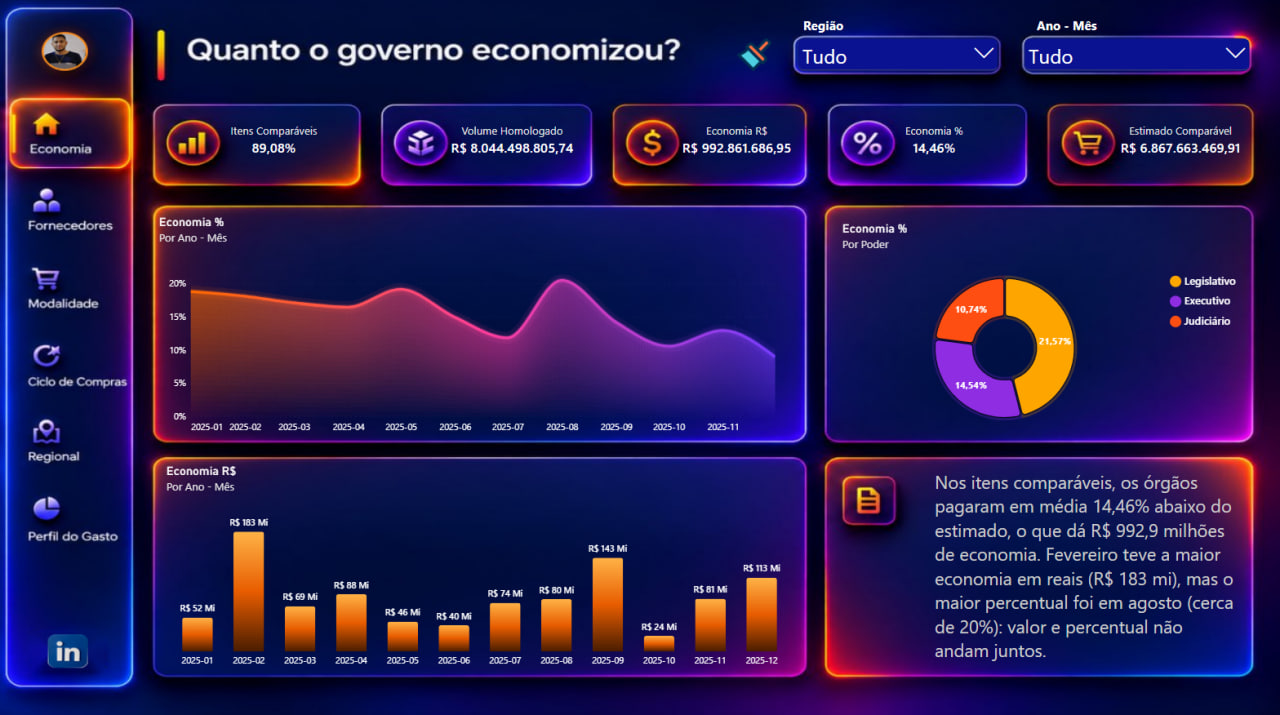

Layout of this report page (visuals, bound fields, positions):
{"tool":"powerbi","page":{"name":"Economia","canvas":[1920,1080],"ordinal":1},"visuals":[{"type":"cardVisual","fields":{"Data":["Medidas.P1 Estimado Comparável"]},"box":[1660.3,160.3,215.9,112.7],"z":0},{"type":"textbox","box":[1400.8,707.4,454.7,294.4],"z":1000},{"type":"slicer","fields":{"Values":["Calendario.Ano-Mês"]},"box":[1530.2,58.7,346,54],"z":2000},{"type":"slicer","title":"região","fields":{"Values":["dim_localidade.regiao"]},"box":[1192.1,58.7,307.9,63.5],"z":3000},{"type":"cardVisual","fields":{"Data":["Medidas.P1 Economia %"]},"box":[1247.6,160.3,306.3,112.7],"z":4000},{"type":"cardVisual","fields":{"Data":["Medidas.P1 Economia R$"]},"box":[992.1,160.3,227,112.7],"z":5000},{"type":"cardVisual","fields":{"Data":["Medidas.P1 Volume Homologado"]},"box":[652.4,160.3,233.3,112.7],"z":6000},{"type":"cardVisual","fields":{"Data":["Medidas.P1 % Itens Comparáveis"]},"box":[282.5,160.3,260.3,112.7],"z":7000},{"type":"textbox","box":[1204.8,31.7,117.5,36.5],"z":8000},{"type":"textbox","box":[1554,31.7,117.5,36.5],"z":9000},{"type":"deneb7E15AEF80B9E4D4F8E12924291ECE89A","title":"Economia %","fields":{"dataset":["Calendario.Ano-Mês","Medidas.P1 Economia %"]},"box":[225.4,313.4,979.1,358.2],"z":10000},{"type":"deneb7E15AEF80B9E4D4F8E12924291ECE89A","title":"Economia R$","fields":{"dataset":["Calendario.Ano-Mês","Medidas.P1 Economia R$"]},"box":[236.5,685.7,968.3,334.9],"z":11000},{"type":"deneb7E15AEF80B9E4D4F8E12924291ECE89A","title":"Economia %","fields":{"dataset":["dim_orgao.poder","Medidas.P1 Economia %"]},"box":[1247.6,323.8,628.6,334.9],"z":12000},{"type":"image","title":"Limpar Filtro","box":[1081,54,100,68.3],"z":13000},{"type":"shape","title":"1_perfil","box":[11.1,730.6,190.3,106.9],"z":17000},{"type":"shape","title":"1_regional","box":[11.1,631.9,190.3,88.9],"z":17375},{"type":"shape","title":"1_ciclo","box":[11.1,506.9,190.3,106.9],"z":17437},{"type":"shape","title":"1_modalidade","box":[11.1,395.8,190.3,95.8],"z":17500},{"type":"shape","title":"1_fornecedores","box":[11.1,272.2,190.3,106.9],"z":18000},{"type":"shape","title":"linkedin","box":[65.3,941.7,88.9,79.2],"z":19000},{"type":"shape","box":[31.9,31.9,133.3,106.9],"z":19001}]}

Visuals, with their boxes in screenshot pixels (x1, y1, x2, y2), scaled from the page's 1920x1080 canvas onto the 1280x715 screenshot:
cardVisual - Medidas.P1 Estimado Comparável: bbox=(1107, 106, 1251, 181)
textbox: bbox=(934, 468, 1237, 663)
slicer - Calendario.Ano-Mês: bbox=(1020, 39, 1251, 75)
"região" slicer: bbox=(795, 39, 1000, 81)
cardVisual - Medidas.P1 Economia %: bbox=(832, 106, 1036, 181)
cardVisual - Medidas.P1 Economia R$: bbox=(661, 106, 813, 181)
cardVisual - Medidas.P1 Volume Homologado: bbox=(435, 106, 590, 181)
cardVisual - Medidas.P1 % Itens Comparáveis: bbox=(188, 106, 362, 181)
textbox: bbox=(803, 21, 882, 45)
textbox: bbox=(1036, 21, 1114, 45)
"Economia %" deneb7E15AEF80B9E4D4F8E12924291ECE89A: bbox=(150, 207, 803, 445)
"Economia R$" deneb7E15AEF80B9E4D4F8E12924291ECE89A: bbox=(158, 454, 803, 676)
"Economia %" deneb7E15AEF80B9E4D4F8E12924291ECE89A: bbox=(832, 214, 1251, 436)
"Limpar Filtro" image: bbox=(721, 36, 787, 81)
"1_perfil" shape: bbox=(7, 484, 134, 554)
"1_regional" shape: bbox=(7, 418, 134, 477)
"1_ciclo" shape: bbox=(7, 336, 134, 406)
"1_modalidade" shape: bbox=(7, 262, 134, 325)
"1_fornecedores" shape: bbox=(7, 180, 134, 251)
"linkedin" shape: bbox=(44, 623, 103, 676)
shape: bbox=(21, 21, 110, 92)
